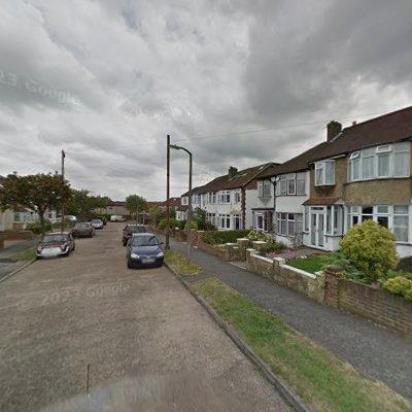stationary-car-onstreet: (126, 231, 166, 270), (34, 231, 76, 260), (123, 222, 147, 246), (73, 221, 97, 238)
